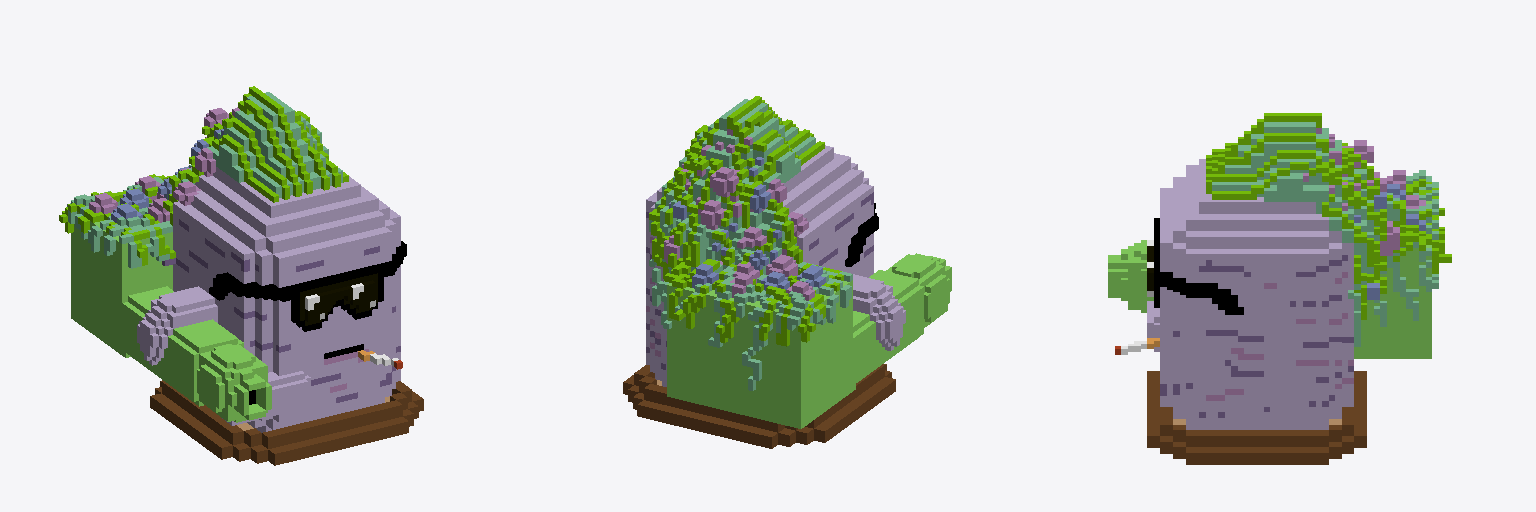
3 views of the same model, side by side, from view 1: azimuth 30°, elevation 25°; view 2: azimuth 150°, elevation 25°; view 3: azimuth 270°, elevation 25° (orthographic).
Visible parts, largest first — view 1: Model; view 2: Model; view 3: Model.
Boxes of the visible parts, box(x1,y1,x2,y2) form: Model: box(59, 86, 423, 465); Model: box(623, 96, 951, 448); Model: box(1108, 113, 1451, 464).
Bounding box in the file's own units: 21.5 × 25.5 × 26.5.
1 materials, 1 textured.